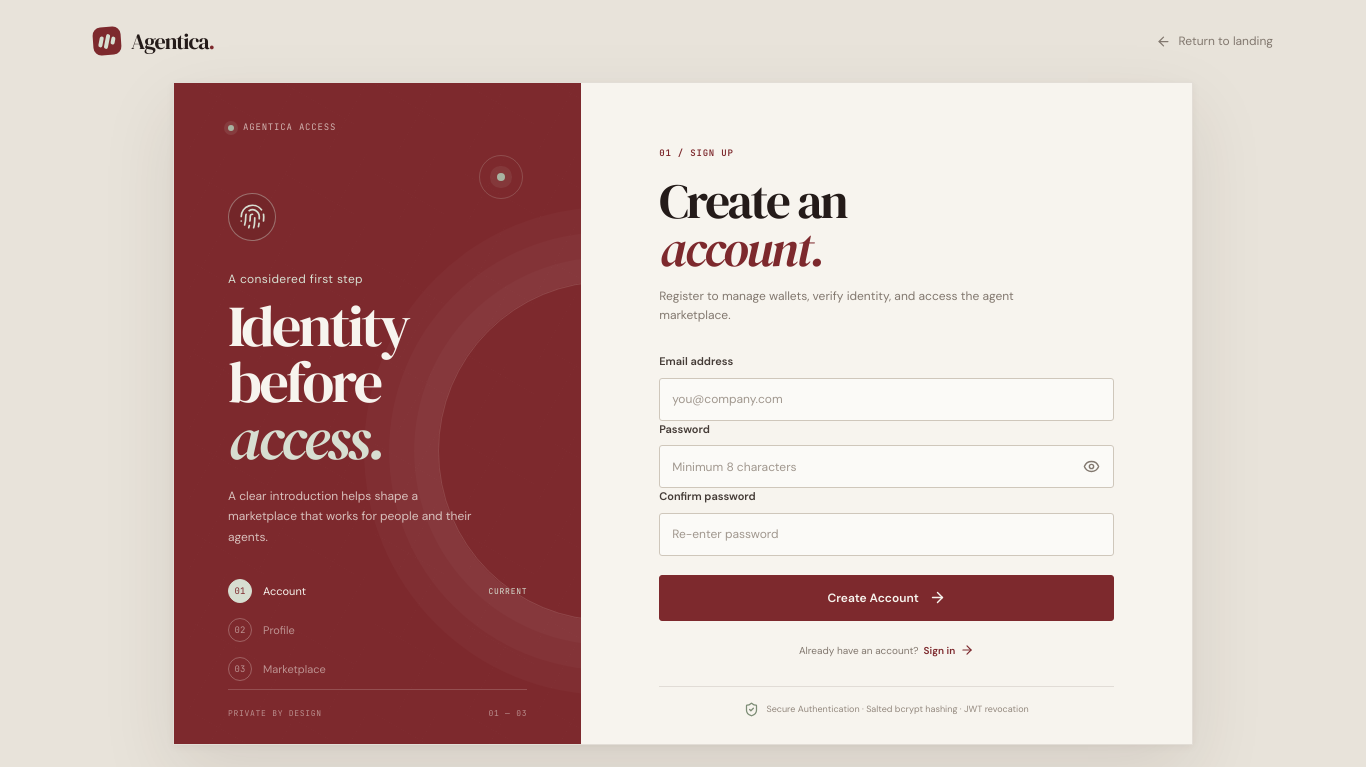
it: Phase 3 Frontend Tests: Auth, Multi-Wallet, and KYC › validates password length and mismatch on signup page
The width and height of the screenshot is (1366, 767).
Type "user@example.com" into the field labelled "Email address" at x=887, y=399, box [659,378,1114,421]
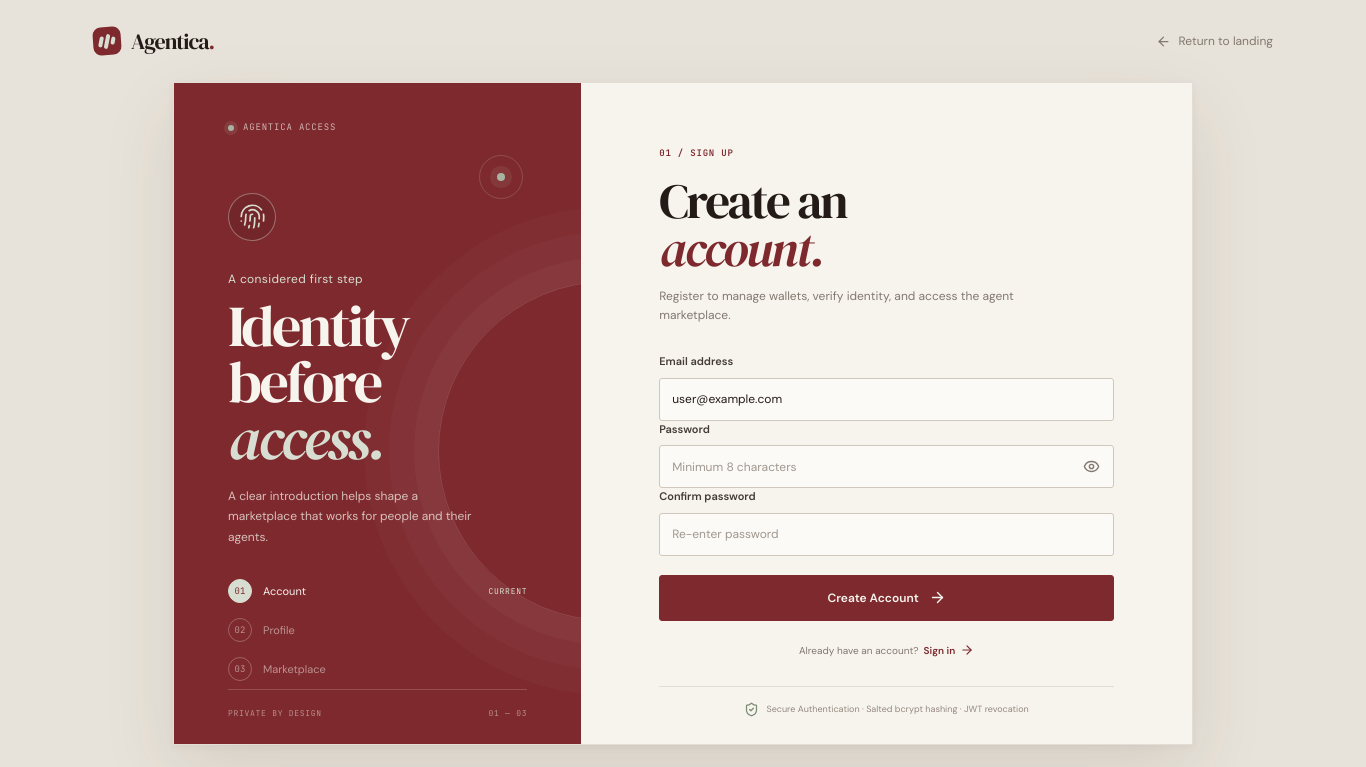
Type "short" into the password field labelled "Password" at x=887, y=467, box [659,445,1114,488]
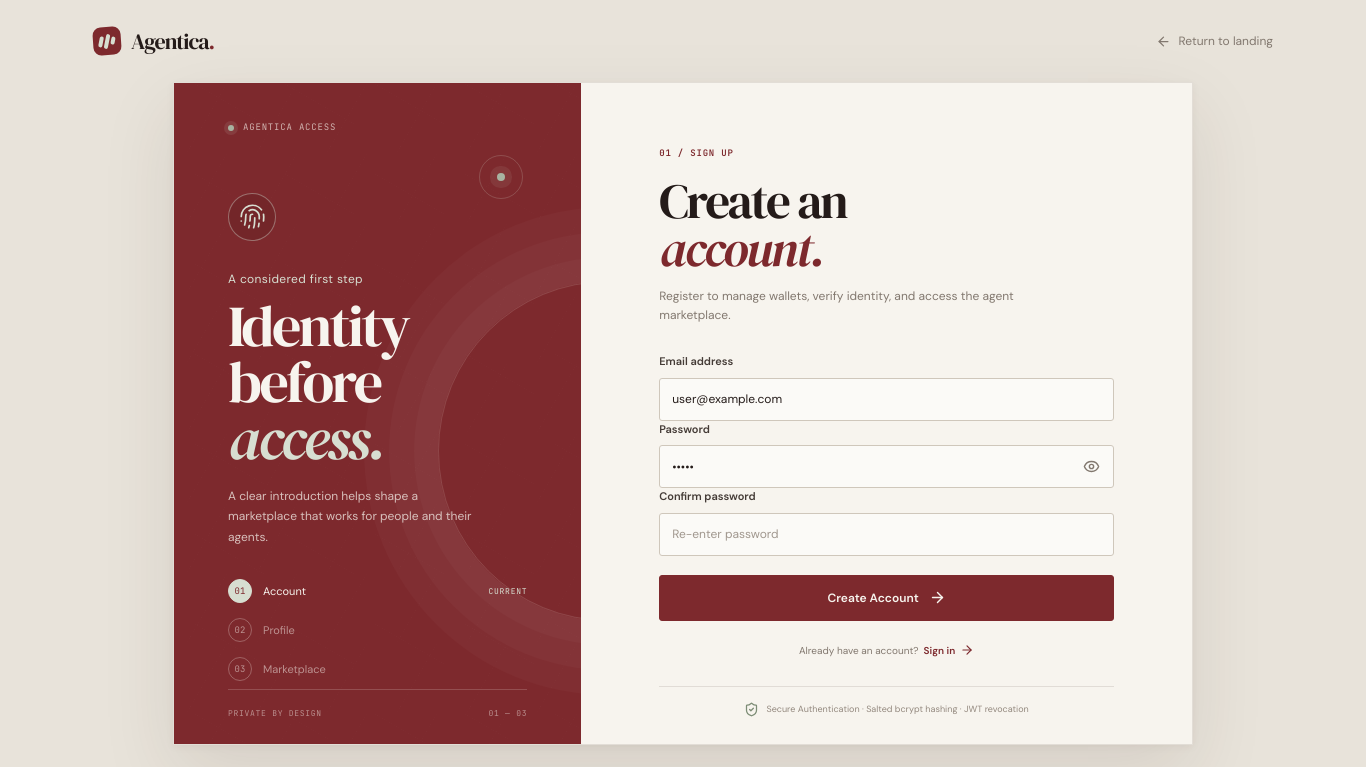
Type "different" into the password field labelled "Confirm password" at x=887, y=534, box [659,513,1114,556]
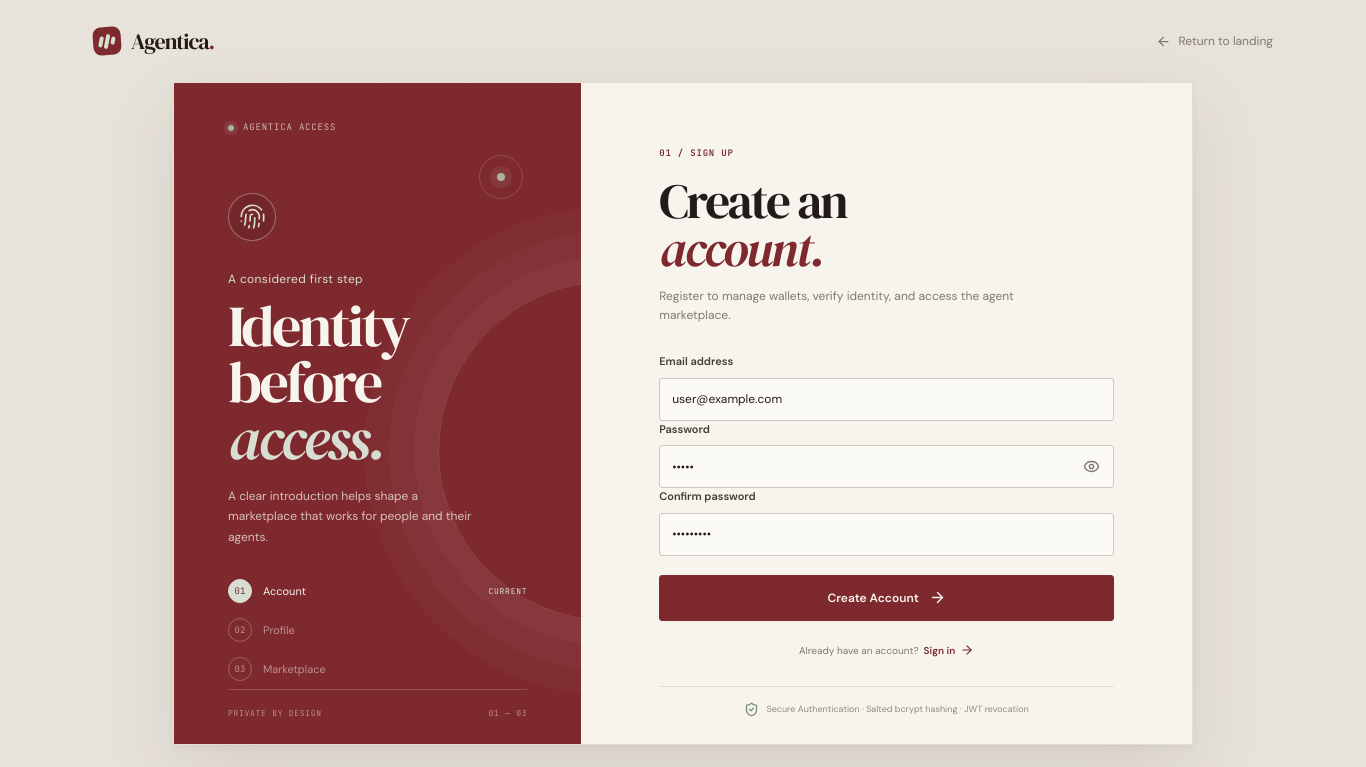
Click the button "Create Account" at x=887, y=598, box [659,575,1114,621]
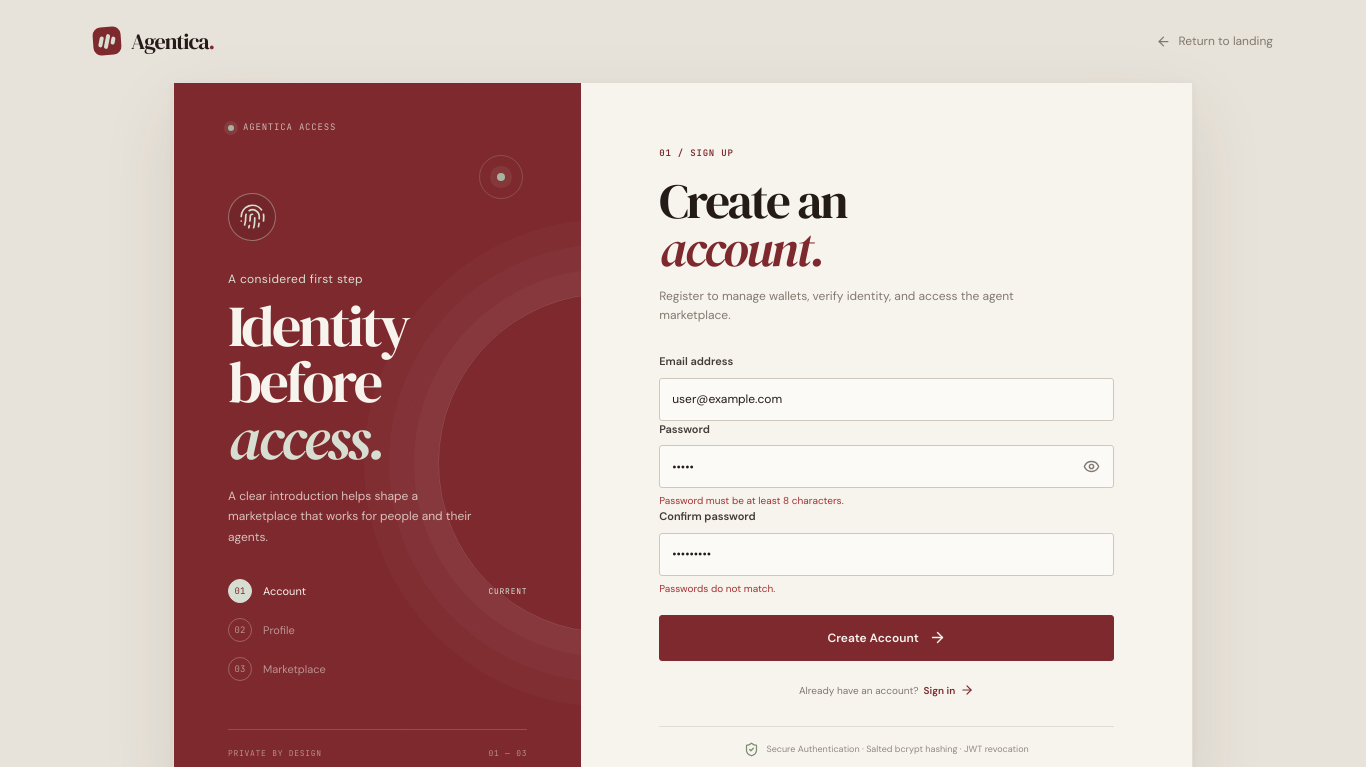
Check: the text "Password must be at least 8 characters." is shown, box [659,494,844,507]
Check: the text "Passwords do not match." is shown, box [659,582,775,595]
